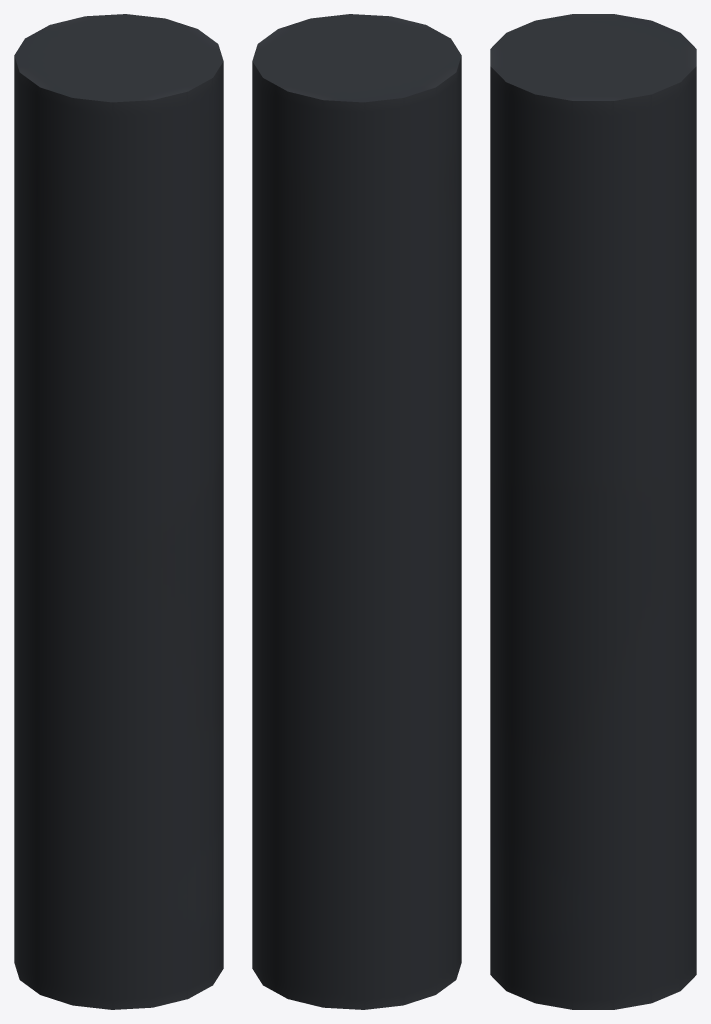
The model's file is post_nw.obj.
3 renders of one model, left to right at view 1: azimuth 30°, elevation 25°; view 2: azimuth 150°, elevation 25°; view 3: azimuth 270°, elevation 25°, orthographic.
Visible parts, largest first — view 1: post_nw__post_nw; view 2: post_nw__post_nw; view 3: post_nw__post_nw.
Boxes of the visible parts, x1,y1,x2,y2 form: post_nw__post_nw: (14,14,223,1009); post_nw__post_nw: (252,14,461,1009); post_nw__post_nw: (490,14,696,1009).
Size of the model in its own units: 0.19 by 0.925 by 0.19.
